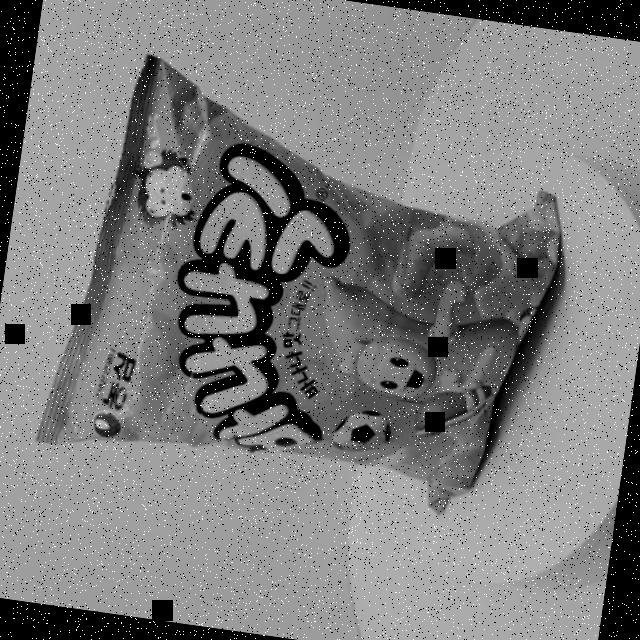snack_bag: (15, 29, 591, 536)
